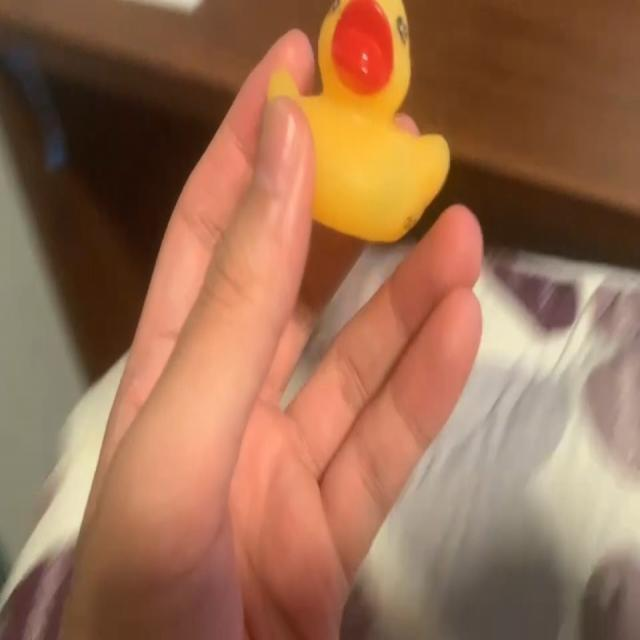rubber-duck: (268, 0, 447, 240)
